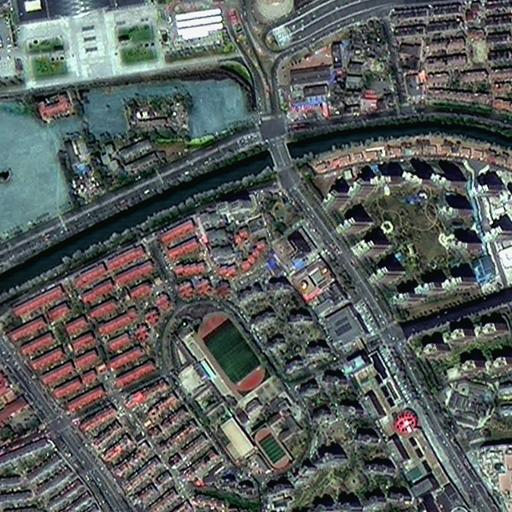school: (164, 302, 317, 478)
